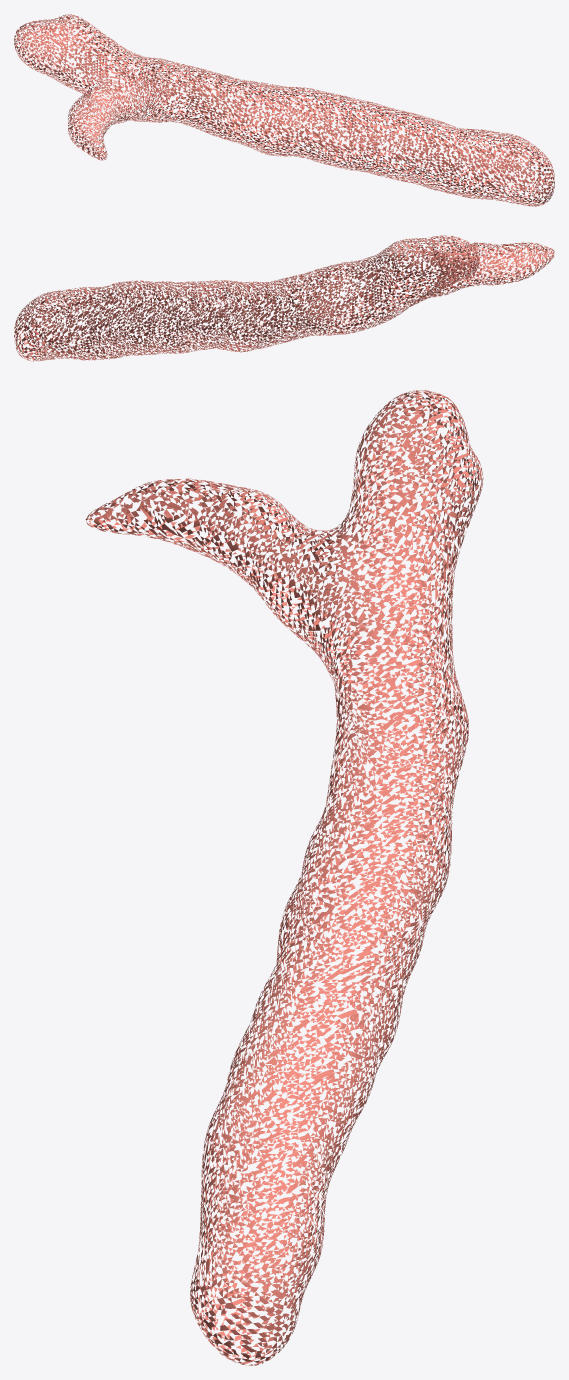
File: diseased.glb
3 views of the same model, one above another, from view 1: azimuth 30°, elevation 25°; view 2: azimuth 150°, elevation 25°; view 3: azimuth 270°, elevation 25° (orthographic). The views are drawn at different scales.
Size of the model in its own units: 135 by 67.64 by 46.88.
